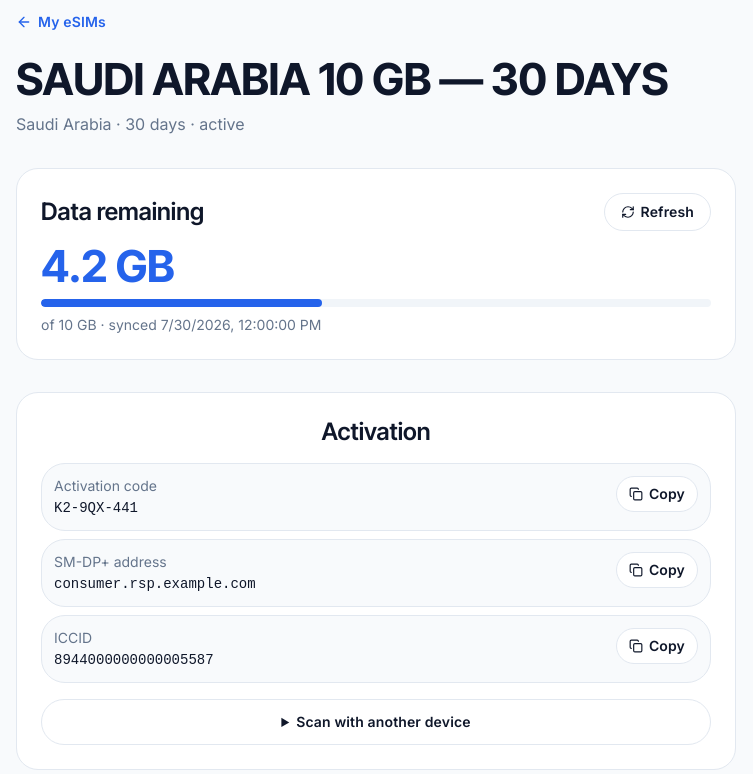
Test: data remaining › explains a throttled refresh
Expected: the 2nd text "4.2 GB" is shown, [41, 239, 174, 293]
Click the button named "refresh": x=657, y=212 [604, 193, 711, 231]
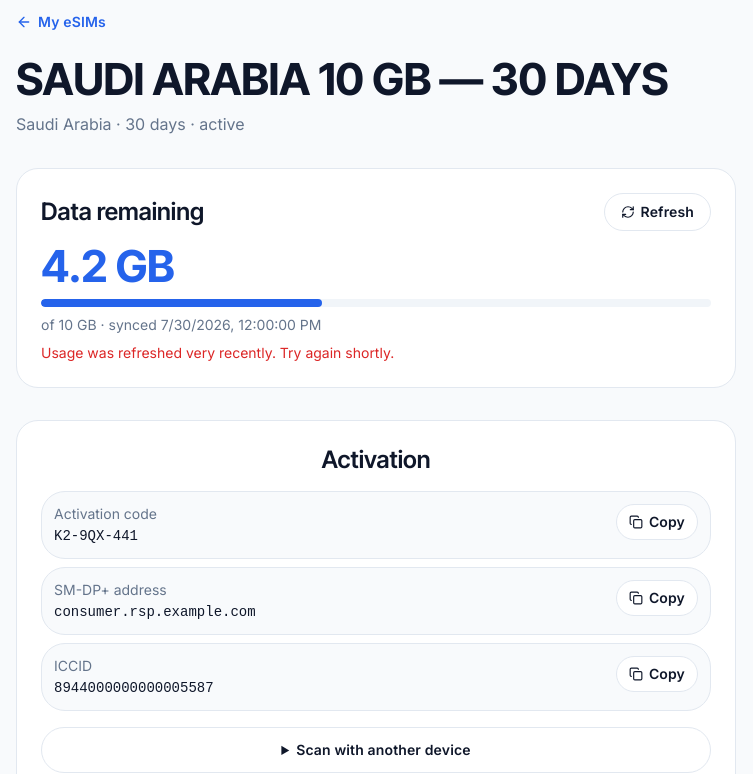
Result: the text "refreshed very recently" is shown at [41, 344, 394, 361]
